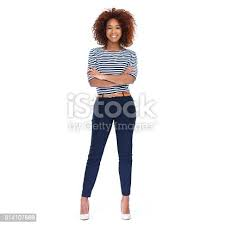face: (106, 22, 122, 42)
